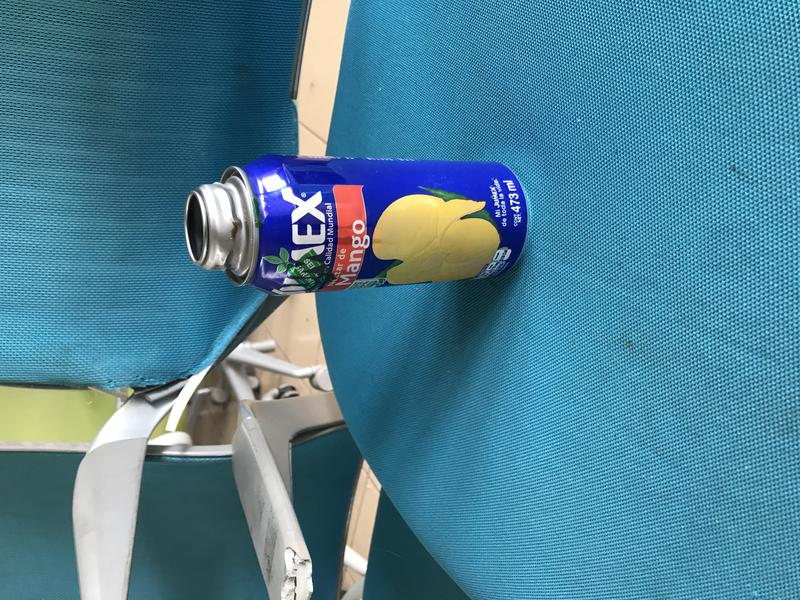jumex_botella: (185, 154, 532, 296)
